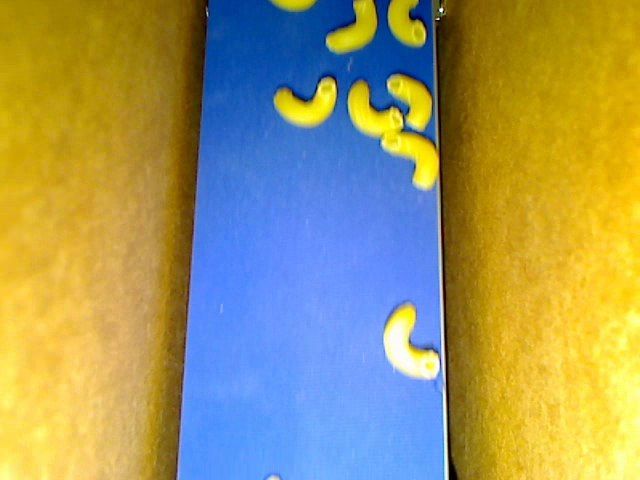elbow: (383, 301, 440, 379), (380, 129, 439, 190), (348, 79, 403, 138), (273, 76, 335, 128), (325, 1, 378, 56), (386, 74, 433, 131), (388, 1, 426, 48)
